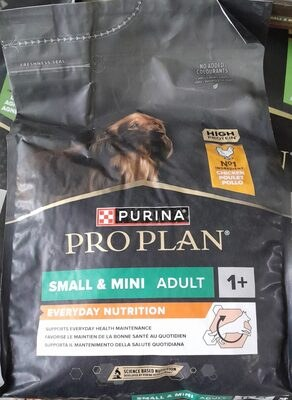adult small&mini: (15, 20, 277, 380)
